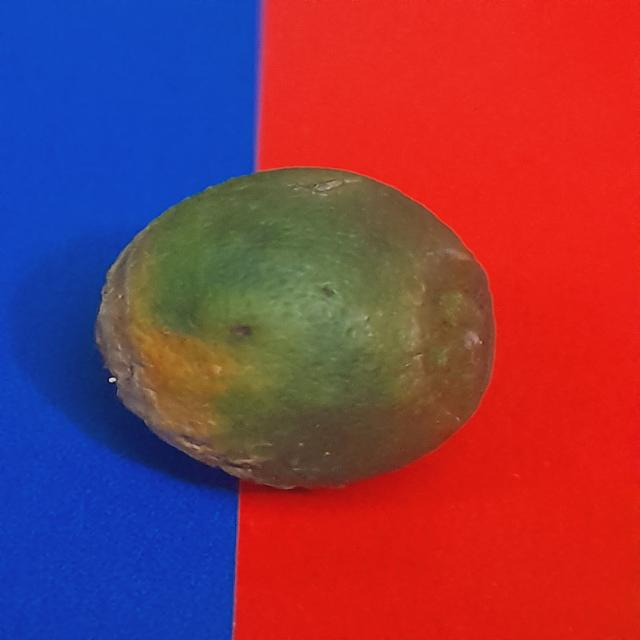thrips: (79, 166, 503, 512)
